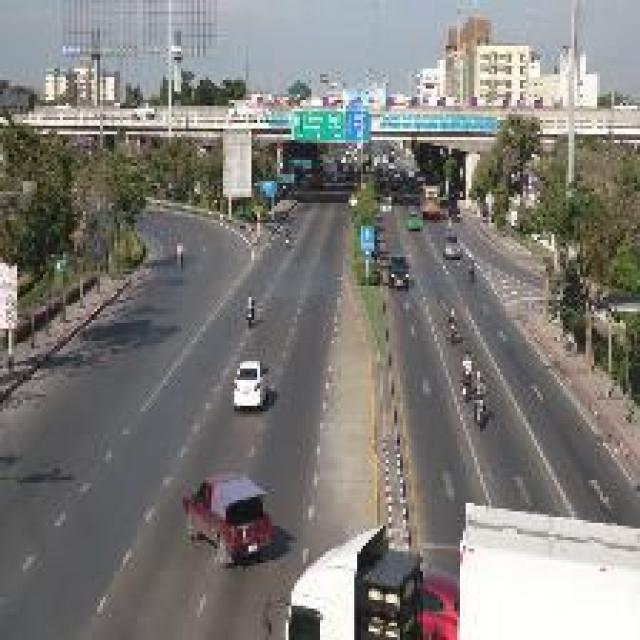other: (419, 558, 459, 625)
